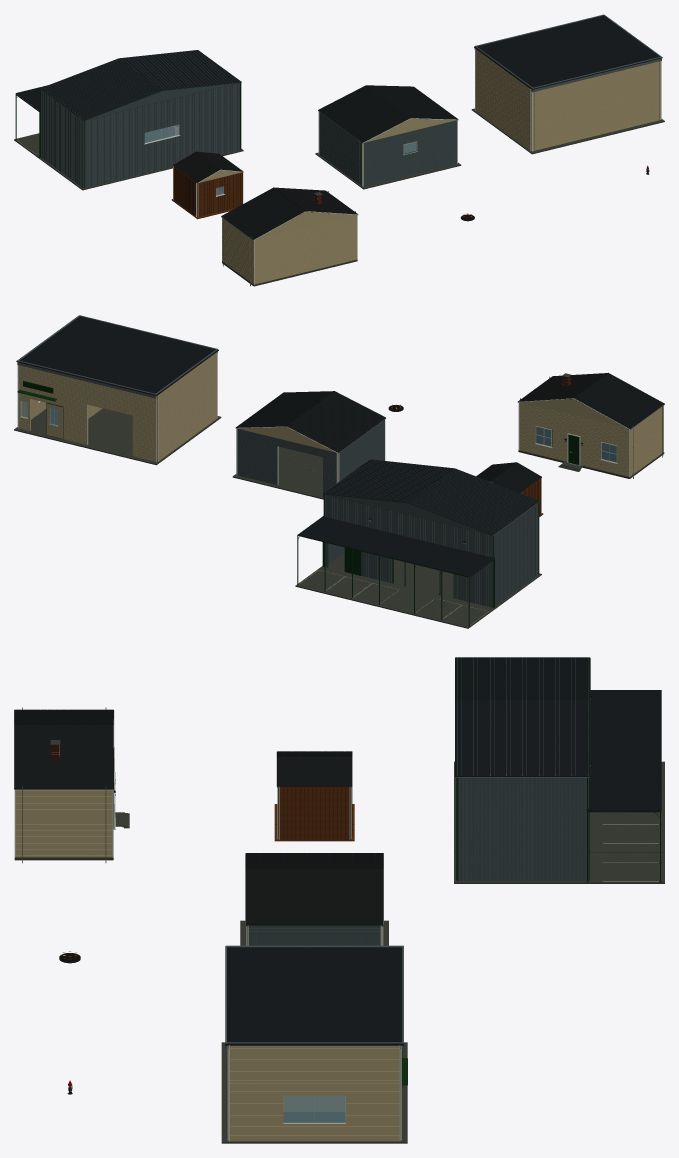
The model's file is 24_YardAndBuildings.gltf.
3 renders of one model, top to bottom at view 1: azimuth 30°, elevation 25°; view 2: azimuth 150°, elevation 25°; view 3: azimuth 270°, elevation 25°, orthographic. The views are drawn at different scales.
Parts seen in each view (by area): view 1: SmallOffice__Body, House__Body, Garage__Body, EquipmentYard__Body, EquipmentYard, SmallOffice__Roof, EquipmentYard__Walls, EquipmentYard__Roof, Shed__Body, EquipmentYard__Roof_Right, EquipmentYard__Floor, Garage (+2 smaller); view 2: House__Body, SmallOffice__Body, EquipmentYard, Garage__Body, SmallOffice__Roof, EquipmentYard__Body, EquipmentYard__Floor, EquipmentYard__Roof, EquipmentYard__Roof_LeanTo, EquipmentYard__Roof_Right, SmallOffice__Floor, Garage__Floor (+3 smaller); view 3: SmallOffice__Roof, SmallOffice__Body, House__Body, EquipmentYard, Garage__Body, EquipmentYard__Roof_Right, EquipmentYard__Roof_LeanTo, EquipmentYard__Body, Shed__Body, EquipmentYard__Floor, EquipmentYard__Roof, SmallOffice__Floor (+2 smaller).
Boxes of the visible parts, x1,y1,x2,y2 form: SmallOffice__Body: (474, 14, 661, 151); House__Body: (221, 187, 358, 286); Garage__Body: (318, 85, 458, 186); EquipmentYard__Body: (15, 50, 241, 188); EquipmentYard: (41, 83, 239, 187); SmallOffice__Roof: (474, 15, 662, 89); EquipmentYard__Walls: (83, 121, 239, 187); EquipmentYard__Roof: (39, 58, 162, 120); Shed__Body: (173, 151, 243, 216); EquipmentYard__Roof_Right: (119, 50, 241, 90); EquipmentYard__Floor: (14, 125, 243, 190); Garage: (362, 118, 456, 185); House__Body: (517, 372, 664, 478); SmallOffice__Body: (17, 315, 217, 461); EquipmentYard: (325, 494, 537, 607); Garage__Body: (235, 391, 386, 496); SmallOffice__Roof: (16, 316, 218, 395); EquipmentYard__Body: (297, 459, 539, 626); EquipmentYard__Floor: (295, 553, 541, 628); EquipmentYard__Roof: (408, 468, 539, 535); EquipmentYard__Roof_LeanTo: (298, 516, 494, 576); EquipmentYard__Roof_Right: (323, 459, 454, 502); SmallOffice__Floor: (14, 408, 221, 465); Garage__Floor: (232, 446, 323, 499); SmallOffice__Roof: (225, 947, 403, 1045); SmallOffice__Body: (225, 945, 407, 1141); House__Body: (14, 707, 129, 863); EquipmentYard: (456, 765, 590, 880); Garage__Body: (245, 853, 383, 945); EquipmentYard__Roof_Right: (455, 700, 589, 776); EquipmentYard__Roof_LeanTo: (586, 690, 661, 810); EquipmentYard__Body: (454, 657, 663, 882); Shed__Body: (275, 751, 353, 839); EquipmentYard__Floor: (454, 761, 664, 883); EquipmentYard__Roof: (455, 657, 589, 700); SmallOffice__Floor: (221, 1042, 407, 1143).
Size of the model in its own units: 40.27 by 6.1 by 29.09.
3 materials, 1 textured.
